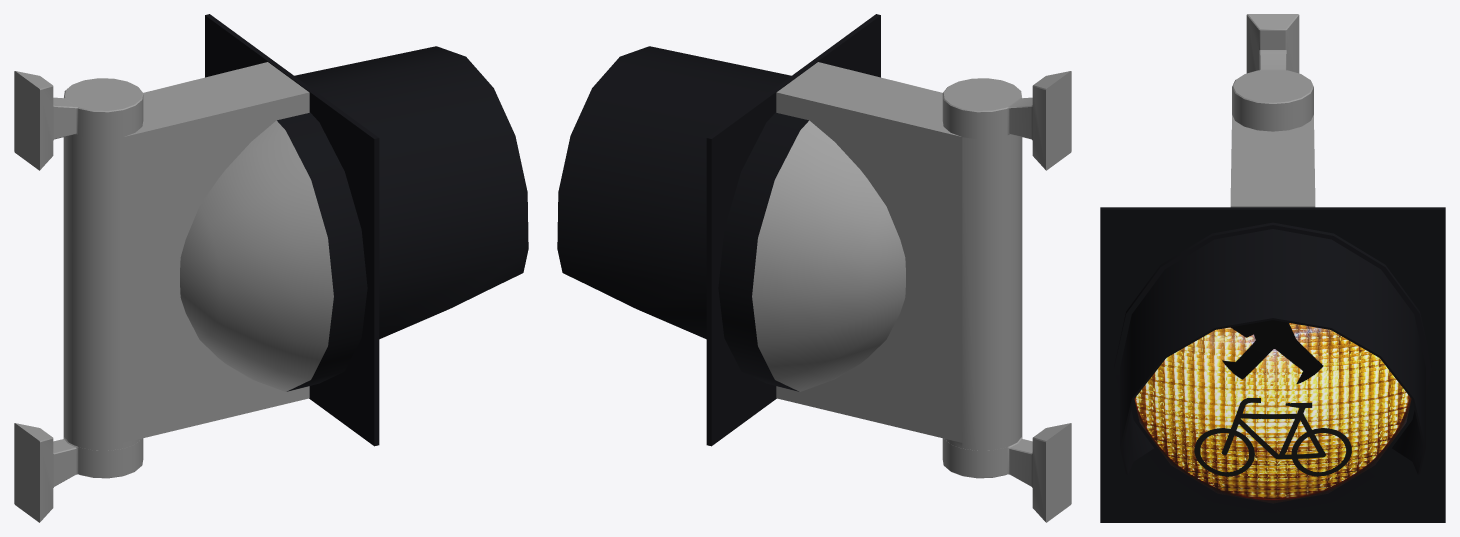
File: Schutzblinker_Fussgaenger_Fahrrad_Mast.glb
3 renders of one model, left to right at view 1: azimuth 30°, elevation 25°; view 2: azimuth 150°, elevation 25°; view 3: azimuth 270°, elevation 25°, orthographic. The views are drawn at different scales.
Visible parts, largest first — view 1: Cube.003, BezierCurve.001, Sonnenblende.003, Blende.003, Masthalterung.002, Masthalterung.003; view 2: Cube.003, BezierCurve.001, Sonnenblende.003, Blende.003, Masthalterung.002, Masthalterung.003; view 3: BezierCurve.001, Blende.003, Sonnenblende.003, Masthalterung.002, Cube.003.
Part boxes in pixels (x1,y1,x2,y2): Cube.003: (63, 62, 309, 450); BezierCurve.001: (180, 112, 367, 391); Sonnenblende.003: (294, 46, 528, 339); Blende.003: (205, 14, 379, 446); Masthalterung.002: (14, 71, 143, 170); Masthalterung.003: (14, 423, 143, 522); Cube.003: (776, 62, 1022, 450); BezierCurve.001: (718, 112, 905, 391); Sonnenblende.003: (557, 46, 791, 339); Blende.003: (706, 14, 880, 446); Masthalterung.002: (942, 71, 1071, 170); Masthalterung.003: (942, 423, 1071, 522); BezierCurve.001: (1114, 222, 1431, 512); Blende.003: (1100, 207, 1445, 522); Sonnenblende.003: (1120, 229, 1425, 474); Masthalterung.002: (1232, 14, 1313, 131); Cube.003: (1230, 115, 1315, 207).
Bounding box in the file's own units: 0.5668 × 0.5357 × 0.3789.
Materials: 3 (3 with a texture image).
